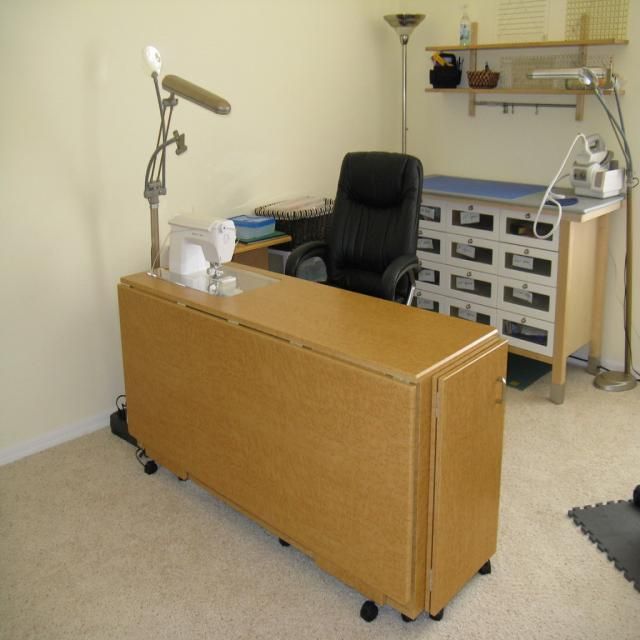chair: (284, 151, 424, 307)
desk: (115, 249, 508, 624)
